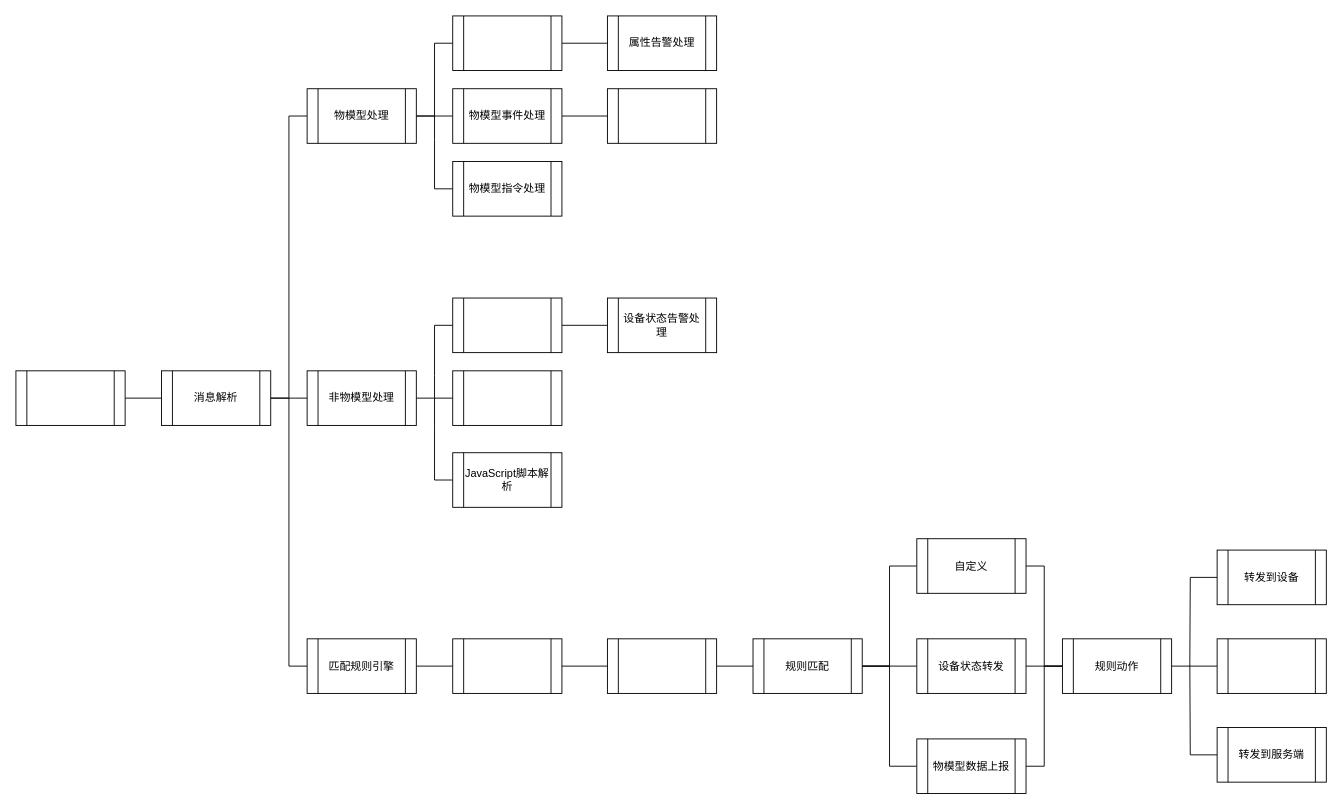
This 1342x810 diagram has some shape labels left out. The centre of each missing label's shape, as x and y in pixels:
"上行消息" belongs at [70,397].
"事件告警处理" belongs at [662,115].
"物模型属性处理" belongs at [507,43].
"自定义透传" belongs at [507,397].
"规则处理" belongs at [662,665].
"规则引擎SQL条件过滤" belongs at [507,665].
"设备状态处理" belongs at [507,325].
"转发到云存储" belongs at [1271,665].
